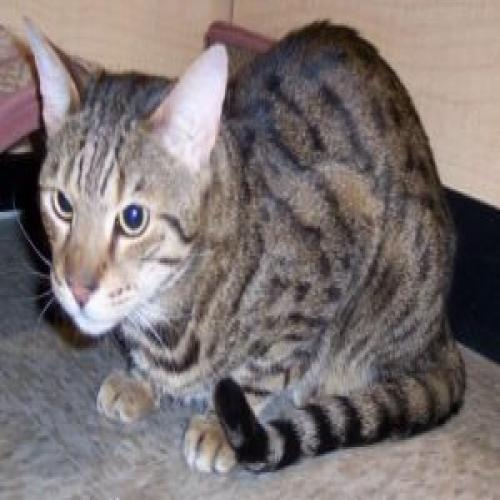bengal: (14, 12, 240, 359)
